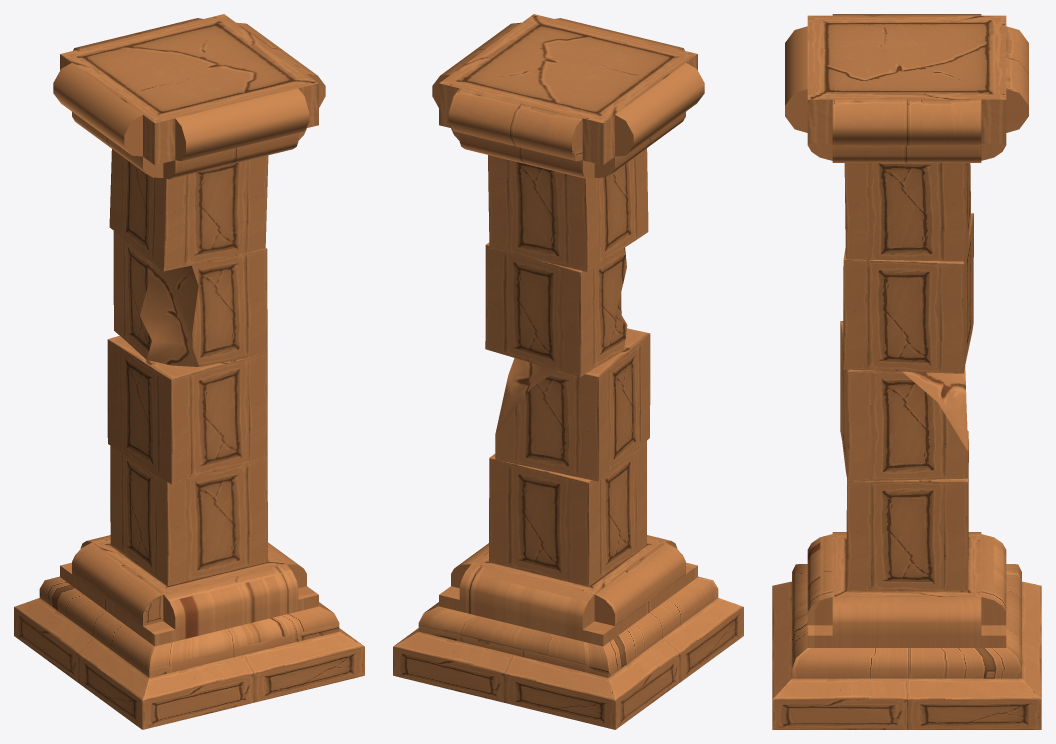
The model's file is test pillar trim.fbx.
3 views of the same model, side by side, from view 1: azimuth 30°, elevation 25°; view 2: azimuth 150°, elevation 25°; view 3: azimuth 270°, elevation 25° (orthographic). The views are drawn at different scales.
Parts seen in each view (by area): view 1: Pillar_TrimTest; view 2: Pillar_TrimTest; view 3: Pillar_TrimTest.
Part boxes in pixels (bbox=[...]): Pillar_TrimTest: bbox=[14, 14, 364, 729]; Pillar_TrimTest: bbox=[393, 14, 743, 729]; Pillar_TrimTest: bbox=[772, 14, 1041, 729].
Bounding box in the file's own units: 136 × 343 × 136.
Materials: 1 (1 with a texture image).
